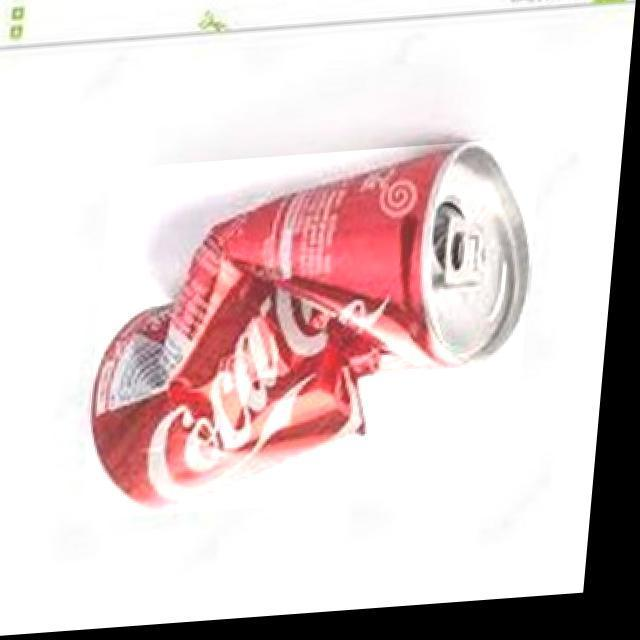trash: (90, 145, 546, 522)
